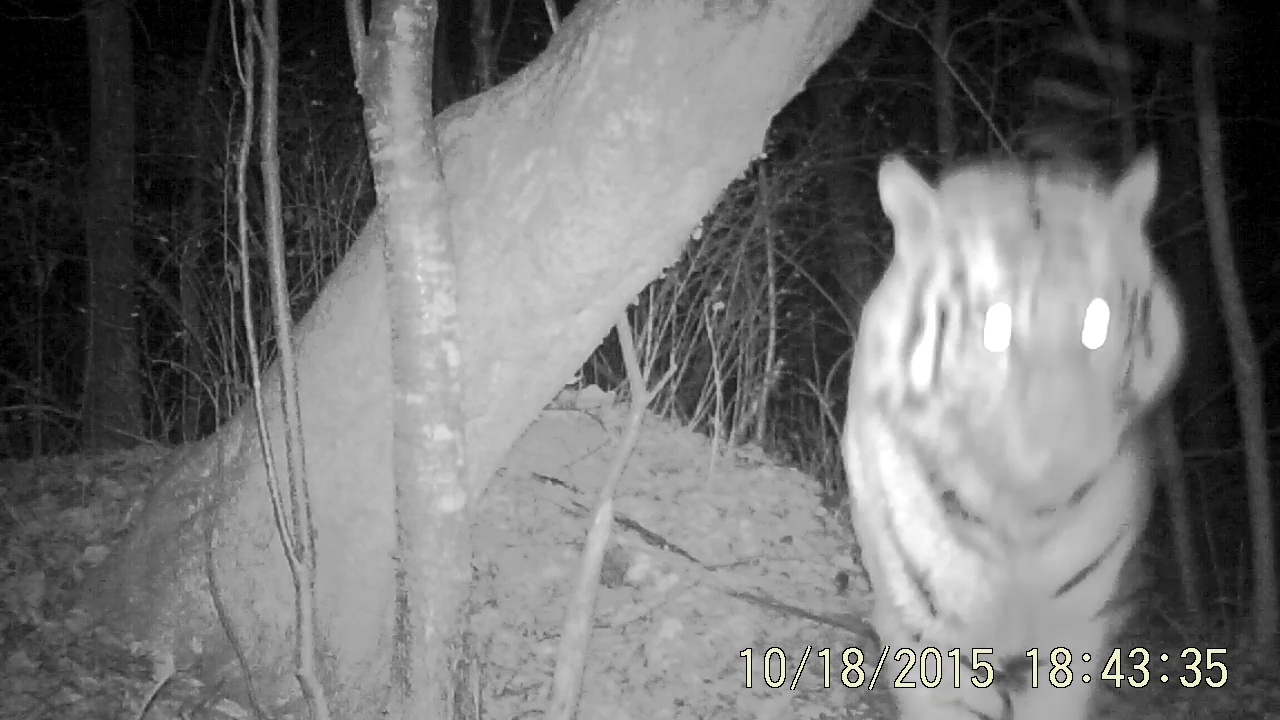Tiger: (791, 92, 1223, 648)
